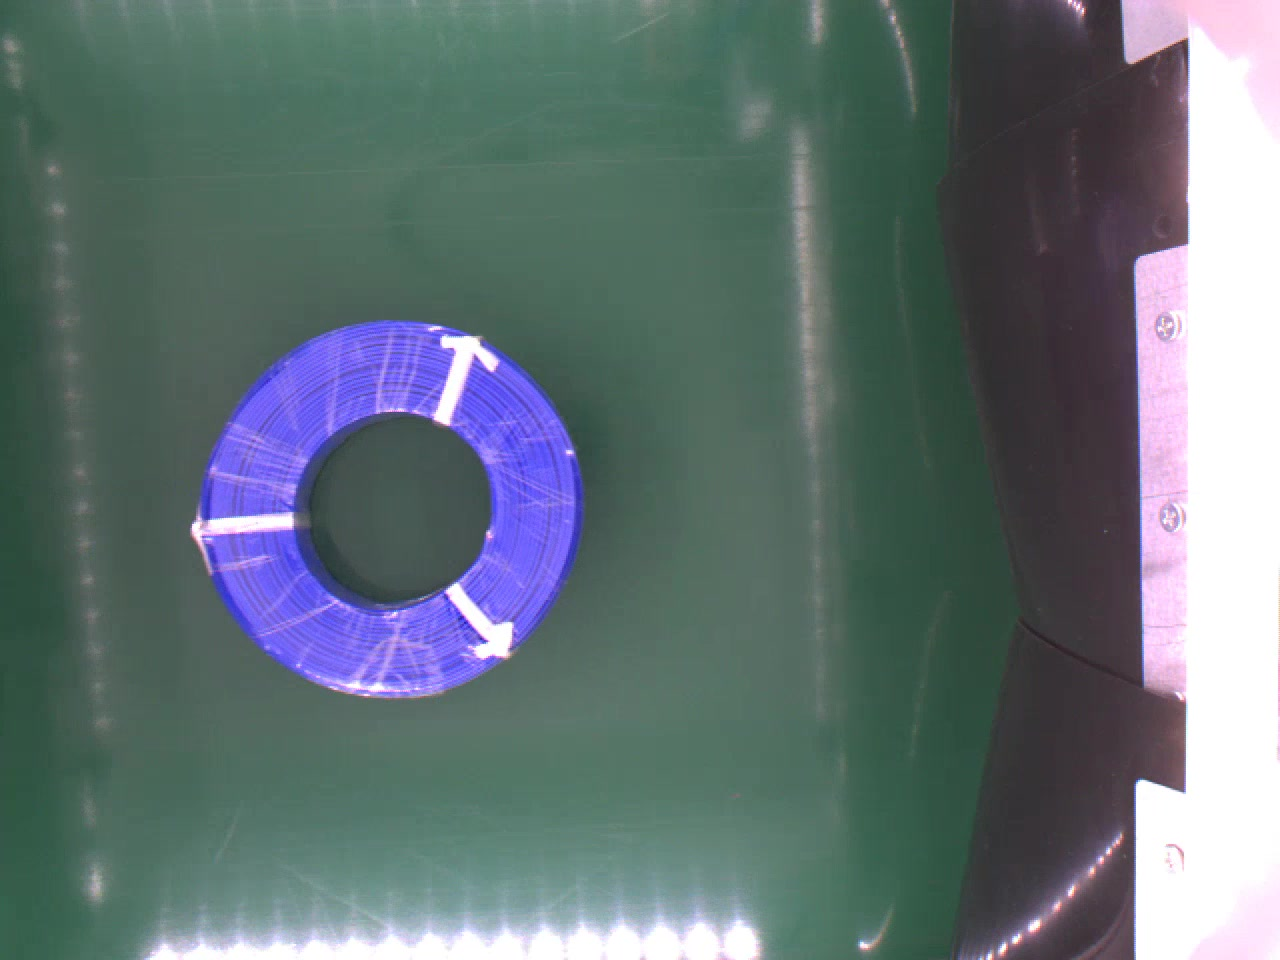blue: (191, 313, 590, 705)
